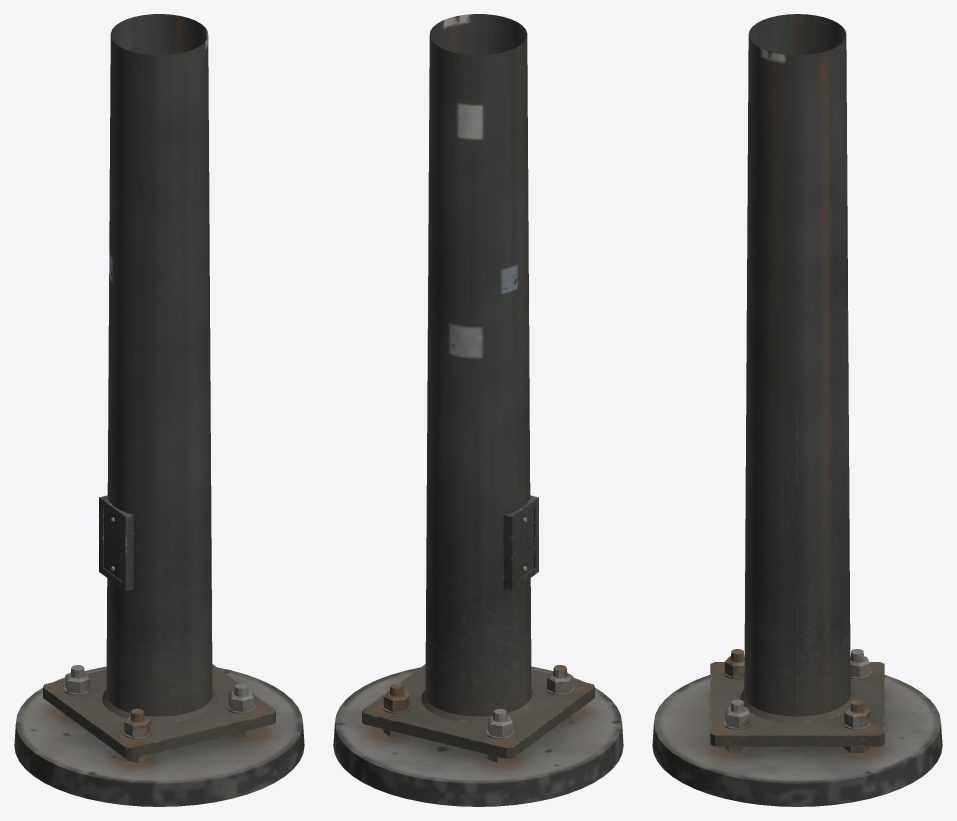
Rendered from mastFoot-v1.glb.
3 renders of one model, left to right at view 1: azimuth 30°, elevation 25°; view 2: azimuth 150°, elevation 25°; view 3: azimuth 270°, elevation 25°, orthographic.
Parts seen in each view (by area): view 1: mastFoot-v1; view 2: mastFoot-v1; view 3: mastFoot-v1.
Part boxes in pixels (<box>): mastFoot-v1: <box>14,14,304,806</box>; mastFoot-v1: <box>333,14,623,806</box>; mastFoot-v1: <box>652,14,942,806</box>.
Size of the model in its own units: 0.762 by 2.06 by 0.762.
1 material, 1 textured.
